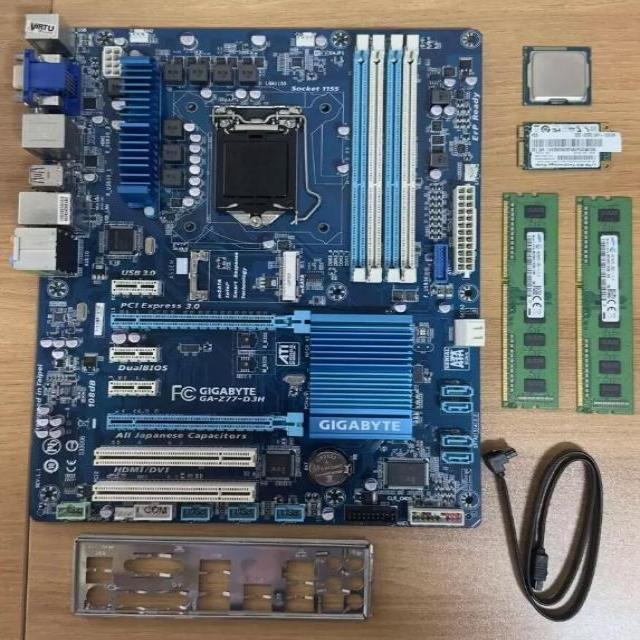CPU: (521, 44, 594, 108)
RAM: (575, 194, 637, 416), (501, 191, 561, 411)
